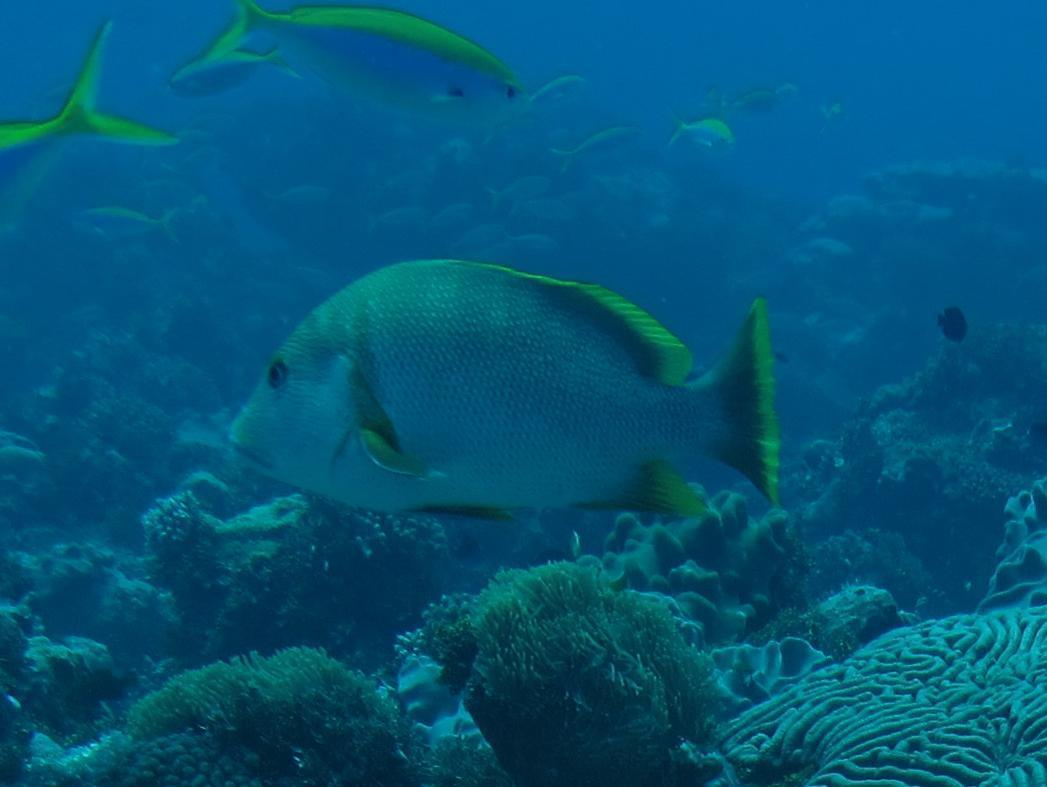Fish: (207, 254, 805, 556)
